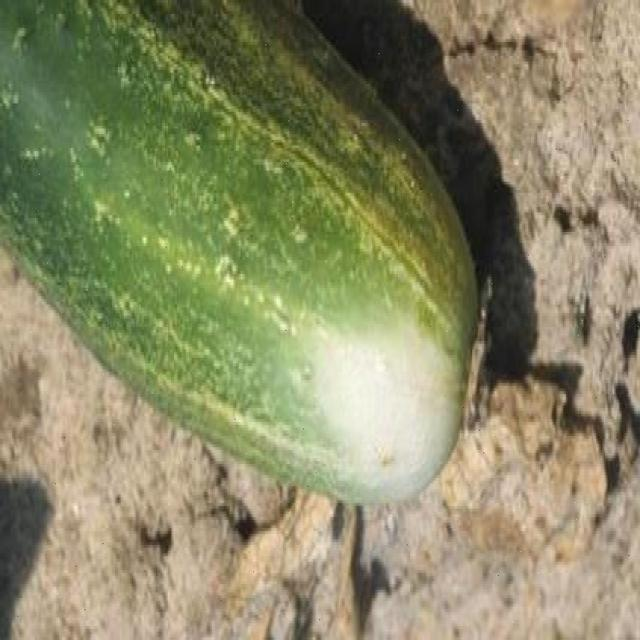Sunscald Fruit: (206, 192, 288, 337)
